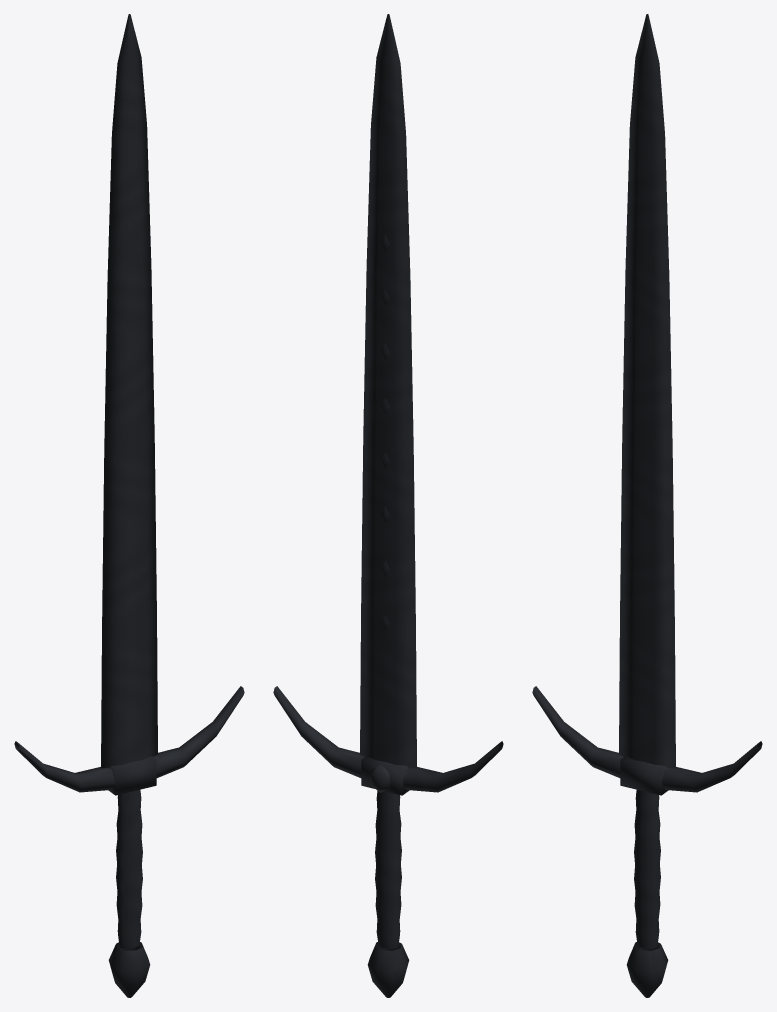
File: aion2_dark_fantasy_sword_LOD0.glb
3 views of the same model, side by side, from view 1: azimuth 30°, elevation 25°; view 2: azimuth 150°, elevation 25°; view 3: azimuth 330°, elevation 25° (orthographic).
Visible parts, largest first — view 1: aion2_dark_fantasy_sword_LOD0; view 2: aion2_dark_fantasy_sword_LOD0; view 3: aion2_dark_fantasy_sword_LOD0.
Part boxes in pixels (x1,y1,x2,y2): aion2_dark_fantasy_sword_LOD0: [14, 14, 244, 997]; aion2_dark_fantasy_sword_LOD0: [273, 14, 503, 997]; aion2_dark_fantasy_sword_LOD0: [532, 14, 762, 997].
Bounding box in the file's own units: 0.41 × 1.71 × 0.0709.
1 material, 1 textured.
